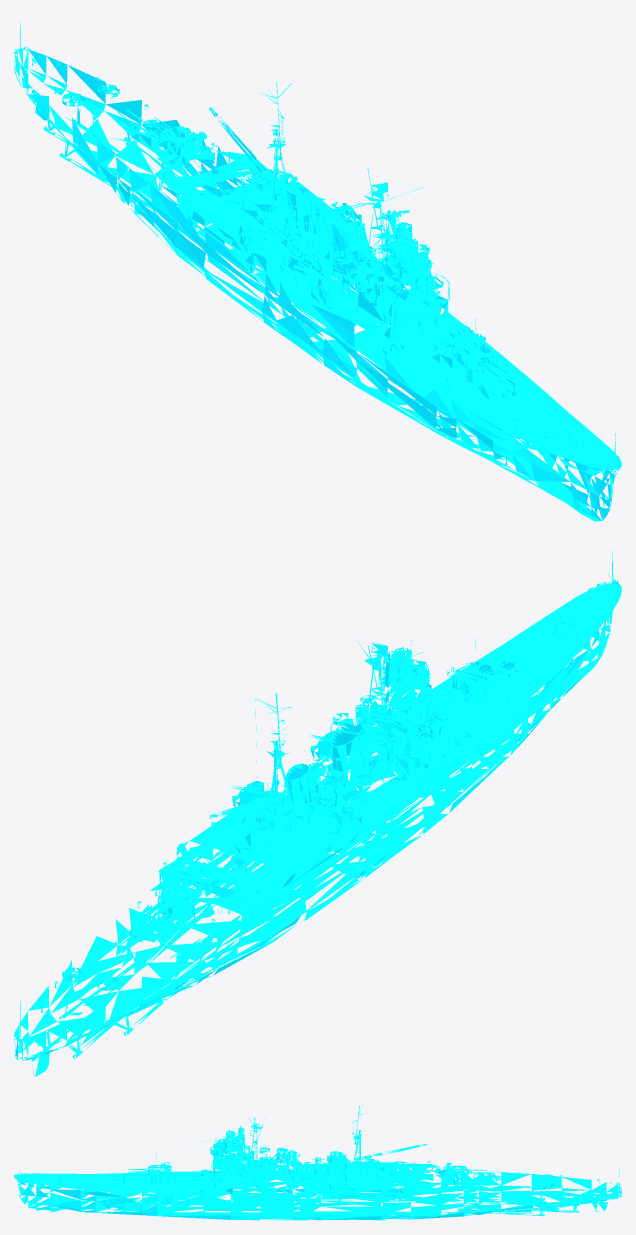
The model's file is Yellow_Dragon.glb.
3 renders of one model, top to bottom at view 1: azimuth 30°, elevation 25°; view 2: azimuth 150°, elevation 25°; view 3: azimuth 270°, elevation 25°, orthographic. The views are drawn at different scales.
Size of the model in its own units: 1.75 by 2.62 by 13.54.
